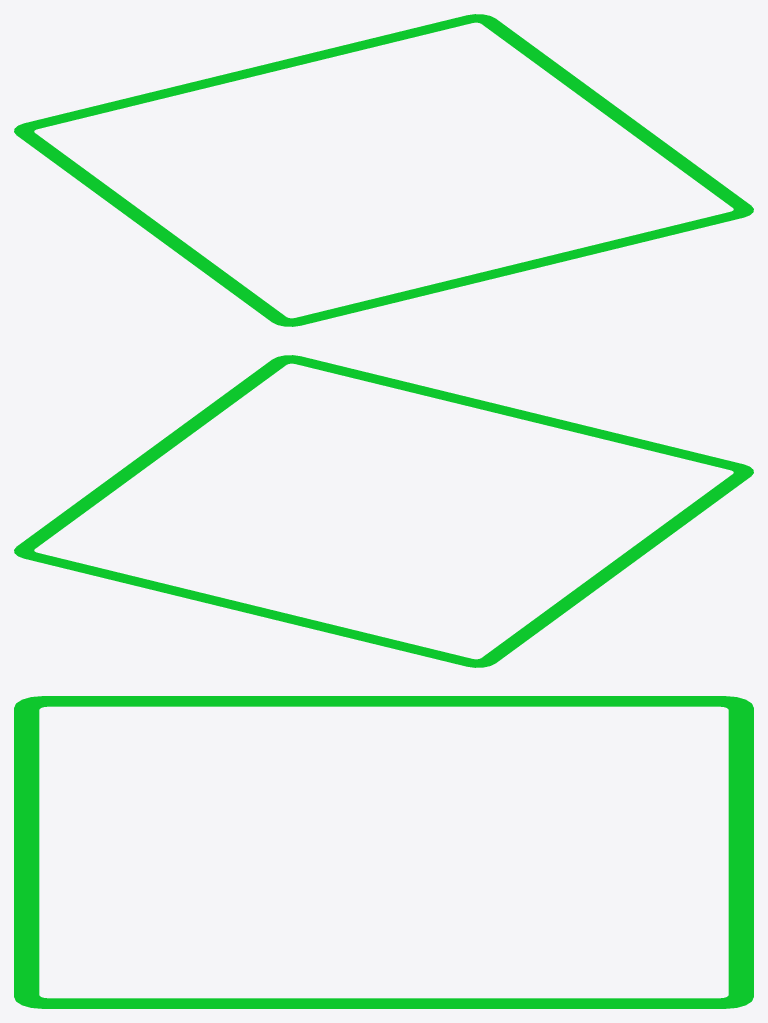
File: borderObject-range.glb
3 views of the same model, one above another, from view 1: azimuth 30°, elevation 25°; view 2: azimuth 150°, elevation 25°; view 3: azimuth 270°, elevation 25° (orthographic). The views are drawn at different scales.
Visible parts, largest first — view 1: Cube.007; view 2: Cube.007; view 3: Cube.007.
Part boxes in pixels (x1,y1,x2,y2): Cube.007: (14,14,753,326); Cube.007: (14,355,753,667); Cube.007: (14,696,753,1008).
Size of the model in its own units: 0.8313 by 0 by 0.8313.
